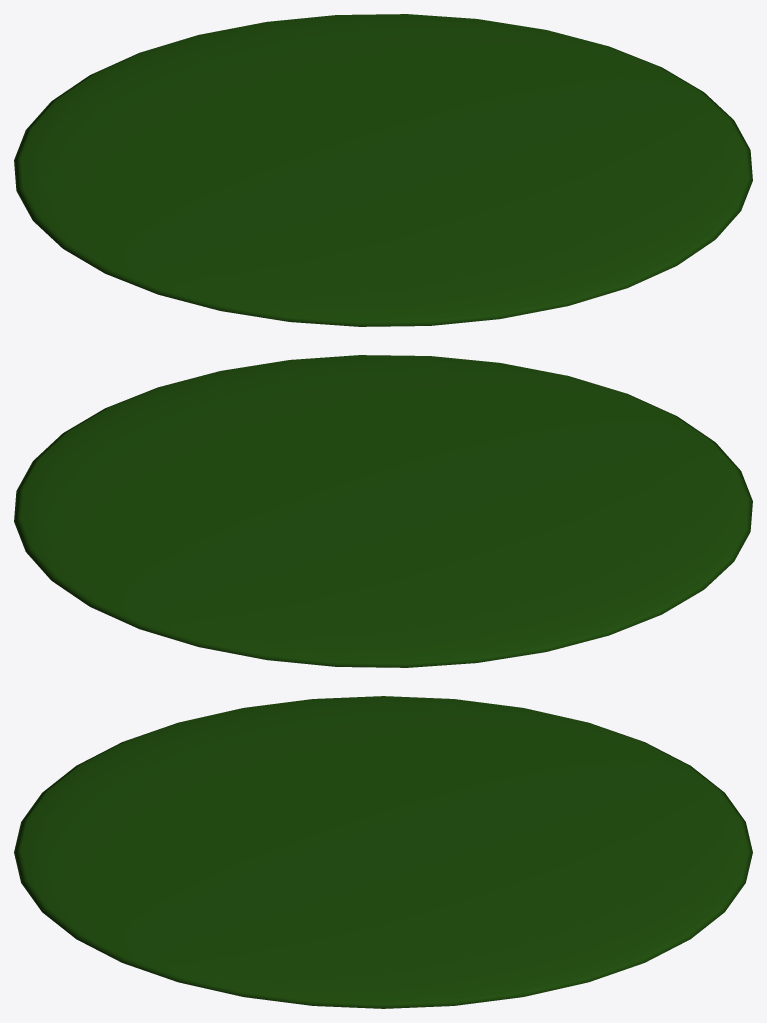
File: grass.fbx
3 views of the same model, one above another, from view 1: azimuth 30°, elevation 25°; view 2: azimuth 150°, elevation 25°; view 3: azimuth 270°, elevation 25° (orthographic).
Visible parts, largest first — view 1: Sphere; view 2: Sphere; view 3: Sphere.
Boxes of the visible parts, x1,y1,x2,y2 form: Sphere: (14, 14, 752, 326); Sphere: (14, 355, 752, 667); Sphere: (14, 696, 752, 1008).
Size of the model in its own units: 40 by 2 by 40.
Materials: 1 (1 with a texture image).
